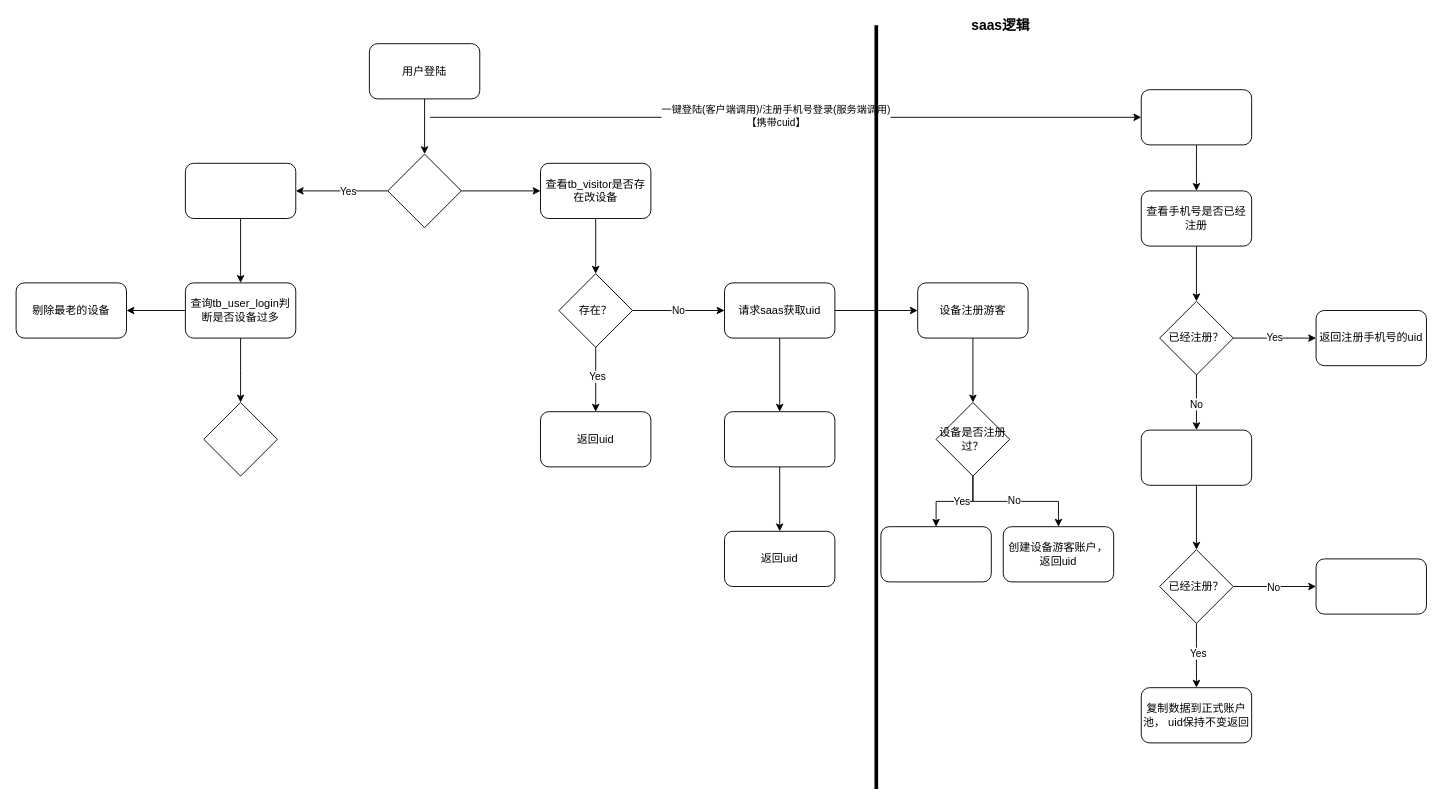
Some shapes in this 1443 by 806 pixel diagram are drawn without their labels. Each missing label, with the centre of its shape:
"写入tb_visitor表" goes at (x=779, y=439).
"创建新用户，返回uid" goes at (x=1370, y=586).
"手机号注册" goes at (x=1196, y=117).
"携带ZYBUSS？" goes at (x=424, y=190).
"查询tb_visitor" goes at (x=240, y=439).
"查询设备ID是否注册过游客" goes at (x=1196, y=457).
"请求saas换取uid" goes at (x=240, y=190).
"返回已存在设备的uid" goes at (x=935, y=554).
